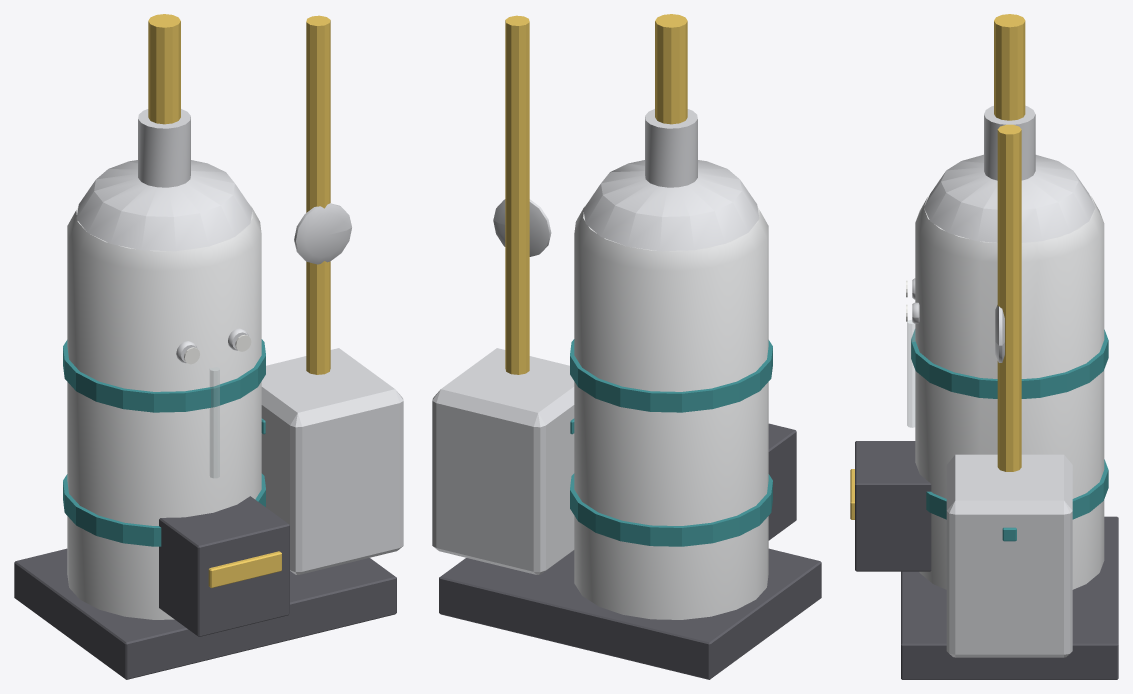
File: dry-cleaners-and-alterations-shop-steam-boiler-unit-d67a24e5__34954.glb
The picture shows the model from 3 angles, left to right: view 1: azimuth 30°, elevation 25°; view 2: azimuth 150°, elevation 25°; view 3: azimuth 270°, elevation 25°; orthographic projection. The views are drawn at different scales.
Parts seen in each view (by area): view 1: steam-boiler-unit; view 2: steam-boiler-unit; view 3: steam-boiler-unit.
Boxes of the visible parts, x1,y1,x2,y2 form: steam-boiler-unit: [14, 14, 403, 679]; steam-boiler-unit: [432, 14, 821, 679]; steam-boiler-unit: [850, 14, 1118, 679].
Bounding box in the file's own units: 1.2 × 2.22 × 0.936.
